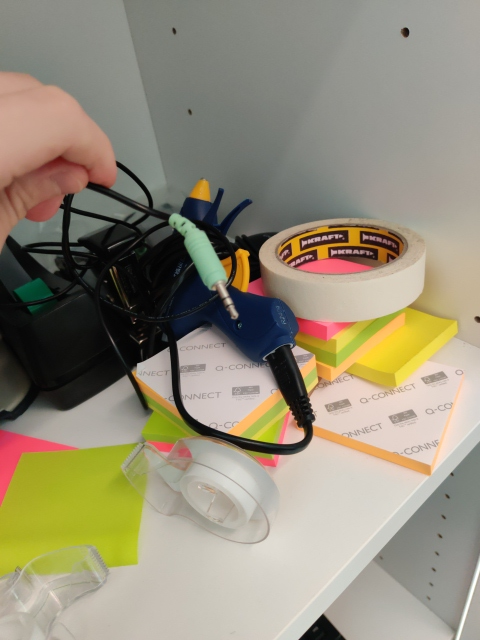3.5mm_audio: (210, 280, 238, 321)
